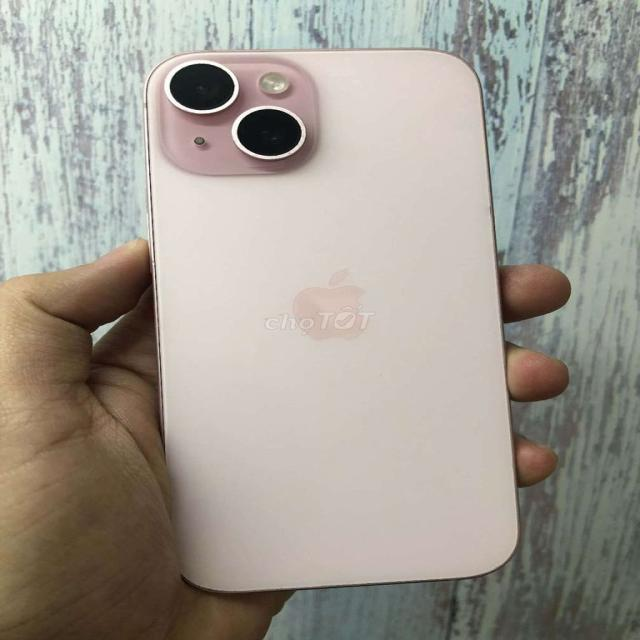gen_15: (120, 33, 537, 600)
scratch: (240, 106, 309, 162), (486, 203, 495, 214)
